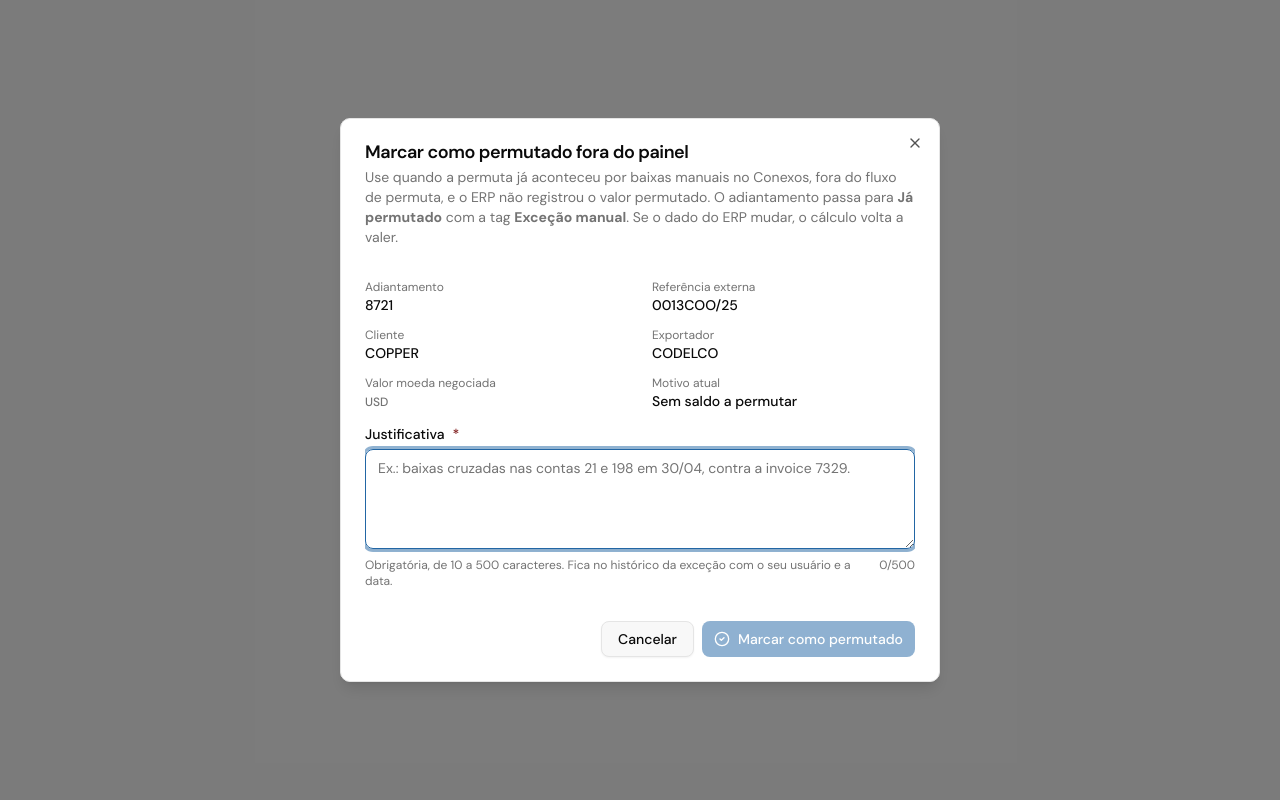
Test: ExcecaoManualDialog › confirmar desabilitado com 0–9 caracteres (após trim) e habilitado com 10
Expected: the button "Marcar como permutado" is disabled, [702, 621, 915, 657]
Replace the text in the text box labelled "Justificativa *" with "   123456789   " at (640, 499), box [365, 449, 915, 549]
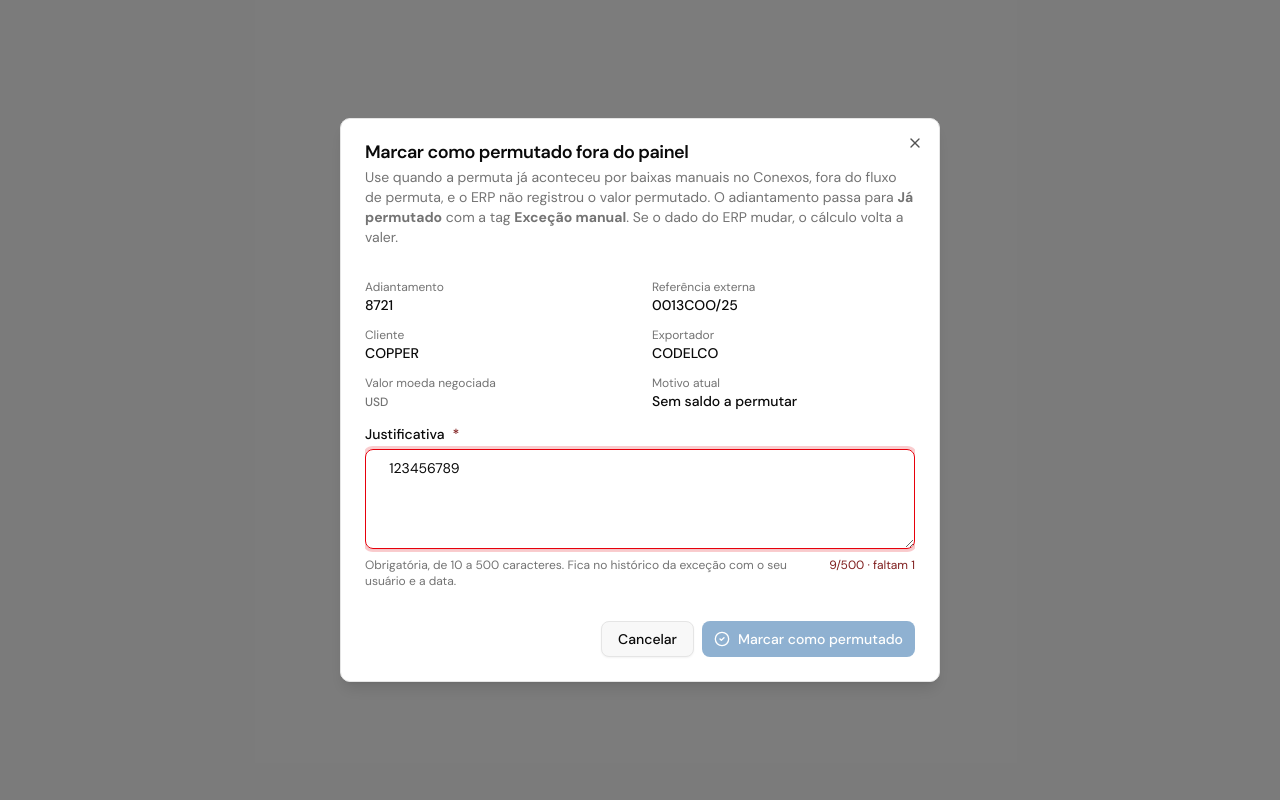
Expected: the button "Marcar como permutado" is disabled, [702, 621, 915, 657]
Replace the text in the text box labelled "Justificativa *" with "1234567890" at (640, 499), box [365, 449, 915, 549]
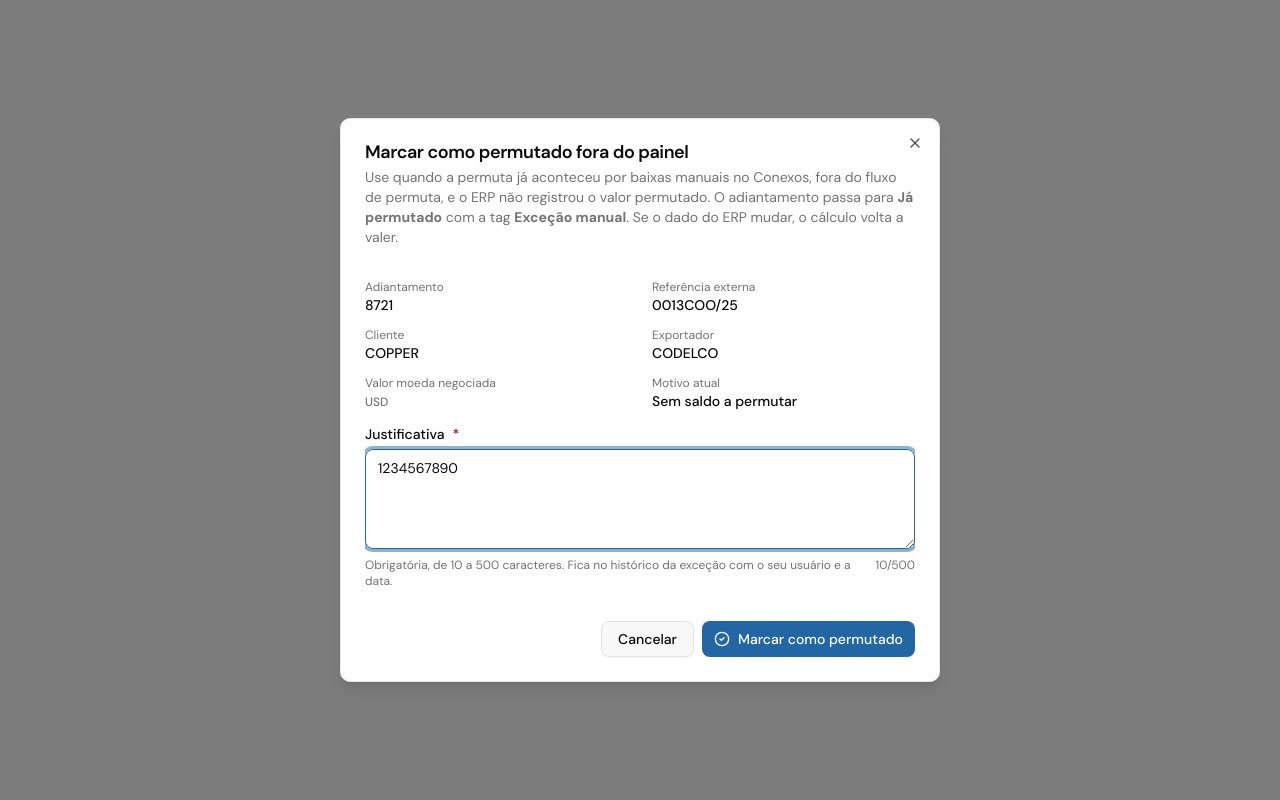
Expected: the button "Marcar como permutado" is enabled, [702, 621, 915, 657]
